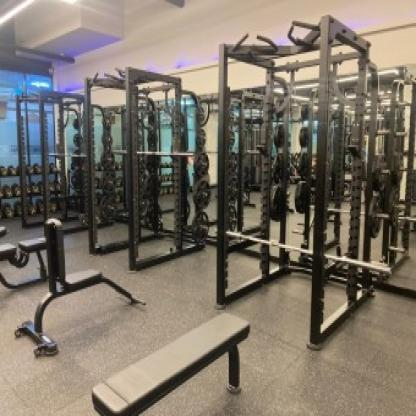smith machine: (217, 14, 370, 310), (85, 67, 208, 275), (16, 88, 90, 217)
